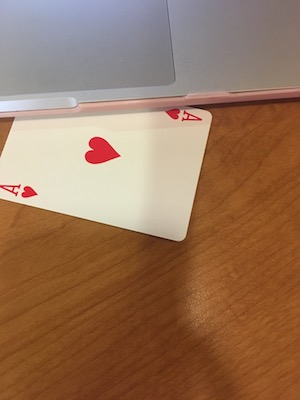AceOfHearts: (1, 96, 214, 245)
